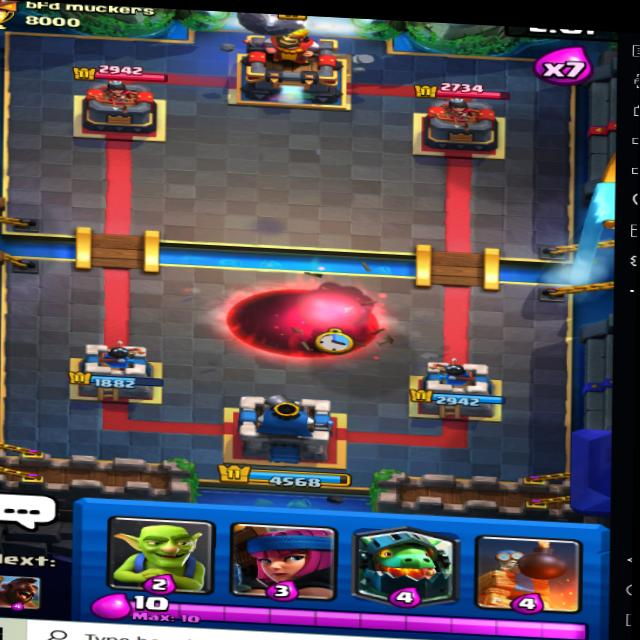Rocket: (222, 12, 317, 47)
Void: (226, 280, 380, 361)
